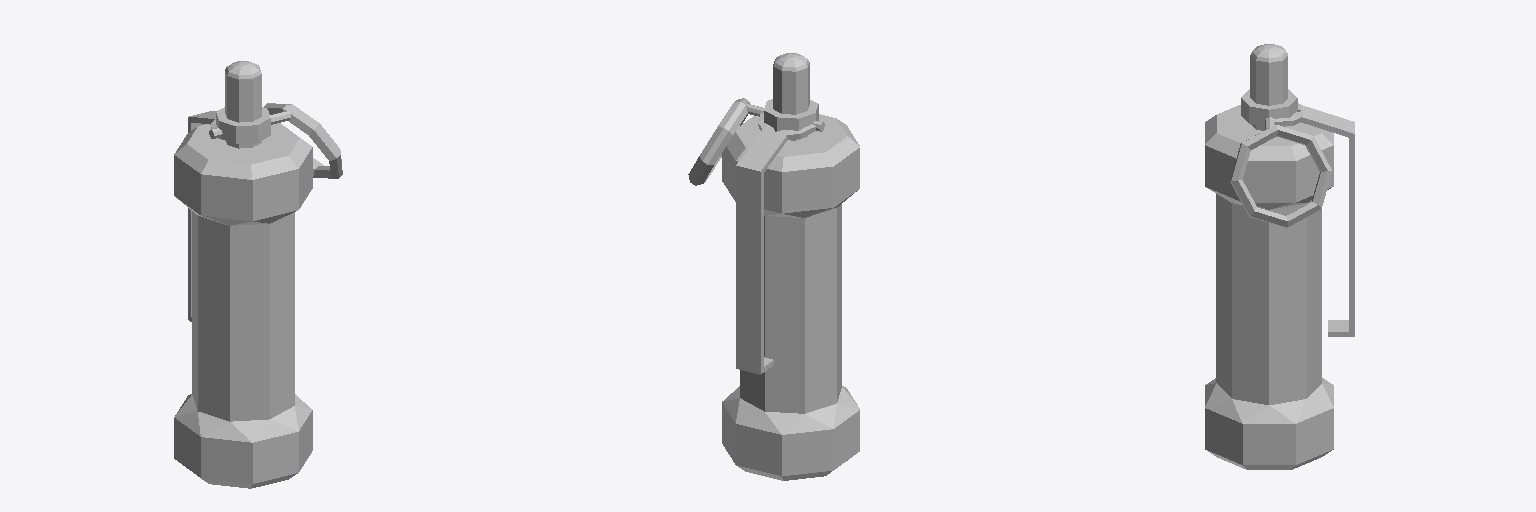
File: Flashbang_East.obj
3 renders of one model, left to right at view 1: azimuth 30°, elevation 25°; view 2: azimuth 150°, elevation 25°; view 3: azimuth 270°, elevation 25°, orthographic.
Parts seen in each view (by area): view 1: Flashbang_East; view 2: Flashbang_East; view 3: Flashbang_East.
Boxes of the visible parts, x1=… form: Flashbang_East: x1=174, y1=61, x2=342, y2=488; Flashbang_East: x1=688, y1=53, x2=859, y2=480; Flashbang_East: x1=1205, y1=44, x2=1354, y2=469.
Bounding box in the file's own units: 0.0579 × 0.1506 × 0.0511.